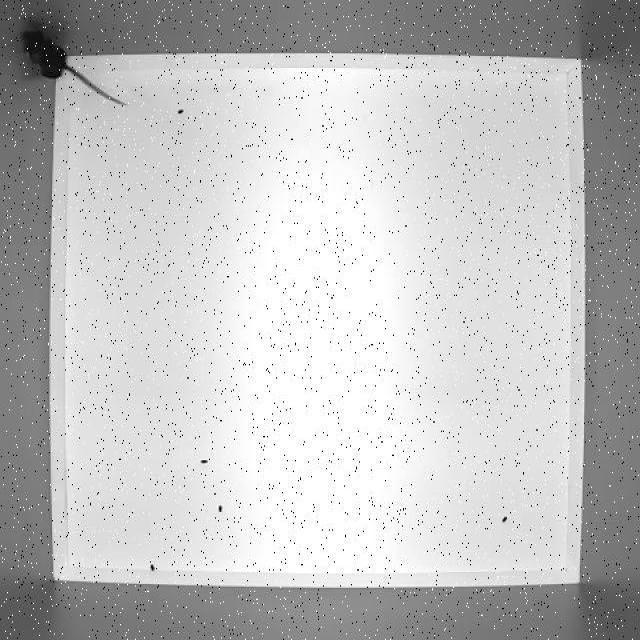rat: (20, 15, 134, 119)
